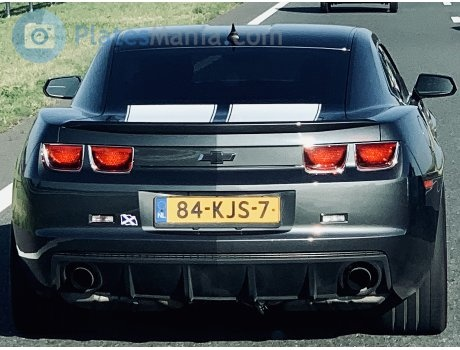number_plate: (151, 193, 280, 224)
